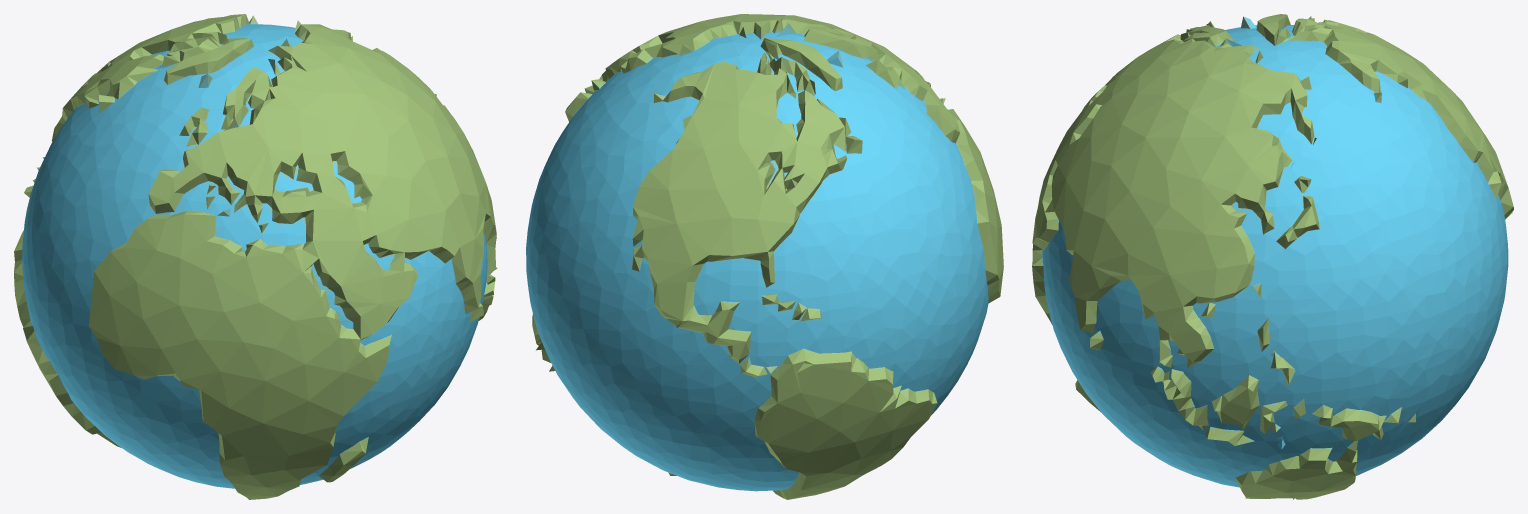
Rendered from earth.gltf.
3 renders of one model, left to right at view 1: azimuth 30°, elevation 25°; view 2: azimuth 150°, elevation 25°; view 3: azimuth 270°, elevation 25°, orthographic.
Parts seen in each view (by area): view 1: Earth; view 2: Earth; view 3: Earth.
Boxes of the visible parts, left/top/right/bottom form: Earth: left=14, top=14, right=497, bottom=499; Earth: left=526, top=14, right=1003, bottom=499; Earth: left=1032, top=14, right=1513, bottom=499.
Bounding box in the file's own units: 2.06 × 2.1 × 2.09.
2 materials, 2 textured.
